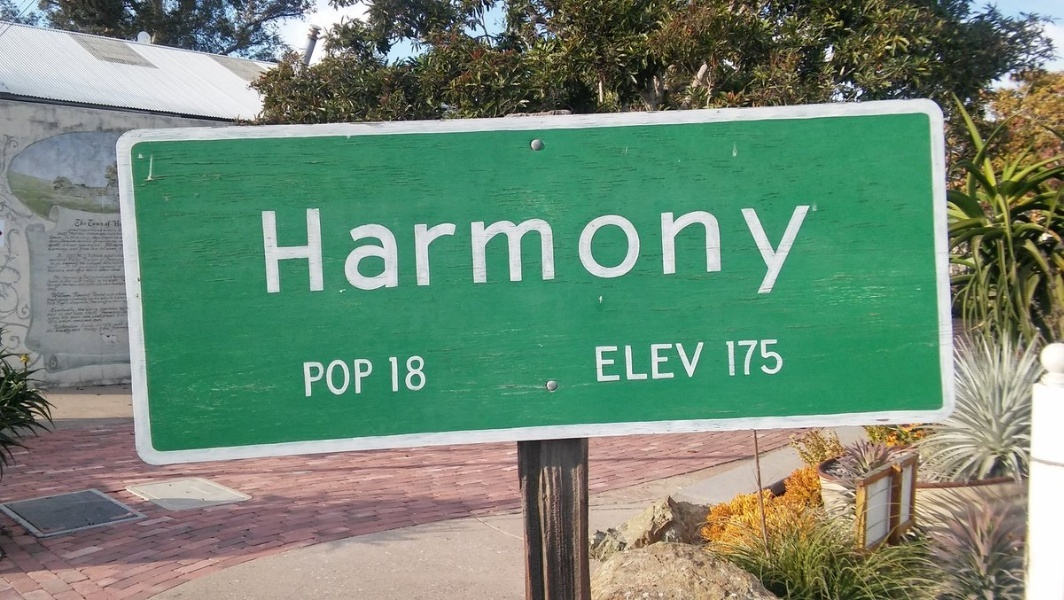text: (257, 195, 272, 298), (273, 195, 288, 298), (289, 195, 304, 298), (305, 195, 320, 298), (321, 195, 336, 298), (337, 195, 352, 298), (353, 195, 368, 298), (369, 195, 384, 298), (385, 195, 400, 298), (401, 195, 416, 298), (417, 195, 432, 298), (433, 195, 448, 298), (449, 195, 464, 298), (465, 195, 480, 298), (481, 195, 496, 298), (497, 195, 512, 298), (513, 195, 528, 298), (529, 195, 544, 298), (545, 195, 560, 298), (561, 195, 576, 298), (577, 195, 592, 298), (593, 195, 608, 298), (609, 195, 624, 298), (625, 195, 640, 298), (641, 195, 656, 298), (657, 195, 672, 298), (673, 195, 688, 298), (689, 195, 704, 298), (705, 195, 720, 298), (721, 195, 736, 298), (737, 195, 752, 298), (753, 195, 768, 298), (769, 195, 784, 298), (785, 195, 800, 298), (801, 195, 812, 298), (593, 339, 608, 384), (609, 339, 624, 384), (625, 339, 640, 384), (641, 339, 656, 384), (657, 339, 672, 384), (673, 339, 688, 384), (689, 339, 704, 384), (305, 356, 320, 399), (321, 356, 336, 399), (337, 356, 352, 399), (353, 356, 368, 399), (401, 354, 416, 395), (737, 339, 752, 377), (753, 339, 768, 377), (769, 339, 784, 377), (388, 354, 400, 395), (417, 354, 427, 395), (726, 339, 736, 377), (49, 228, 64, 253), (65, 228, 80, 253), (81, 228, 96, 253), (97, 228, 112, 253), (49, 307, 64, 332), (65, 307, 80, 332), (81, 307, 96, 332), (97, 307, 112, 332), (49, 250, 64, 274), (65, 250, 80, 274), (81, 250, 96, 274), (97, 250, 112, 274), (113, 307, 127, 332), (369, 356, 376, 399), (49, 274, 64, 292), (65, 274, 80, 292), (81, 274, 96, 292), (97, 274, 112, 292), (113, 250, 124, 274), (113, 228, 122, 253), (49, 292, 64, 307), (65, 292, 80, 307), (81, 292, 96, 307), (97, 292, 112, 307), (113, 292, 127, 307), (113, 274, 124, 292), (97, 218, 112, 229), (87, 218, 96, 229), (113, 218, 122, 229), (302, 356, 304, 399), (73, 217, 80, 228), (81, 217, 88, 228), (705, 339, 706, 384), (47, 274, 48, 292), (47, 292, 48, 307)
